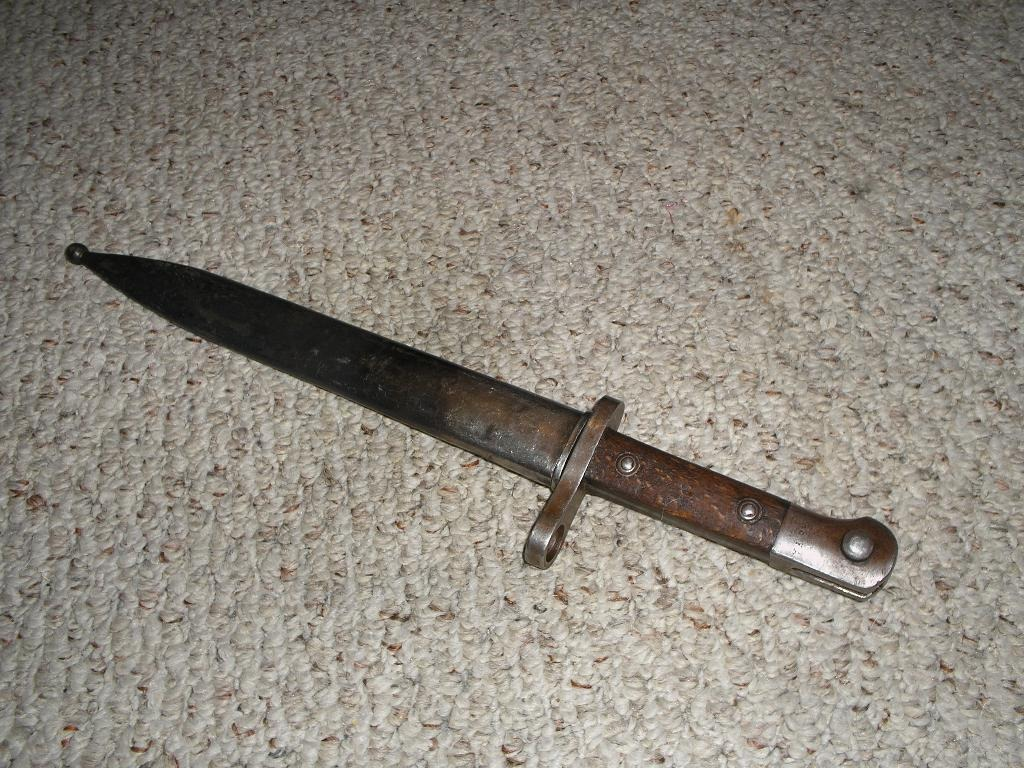sword: (75, 199, 916, 637)
